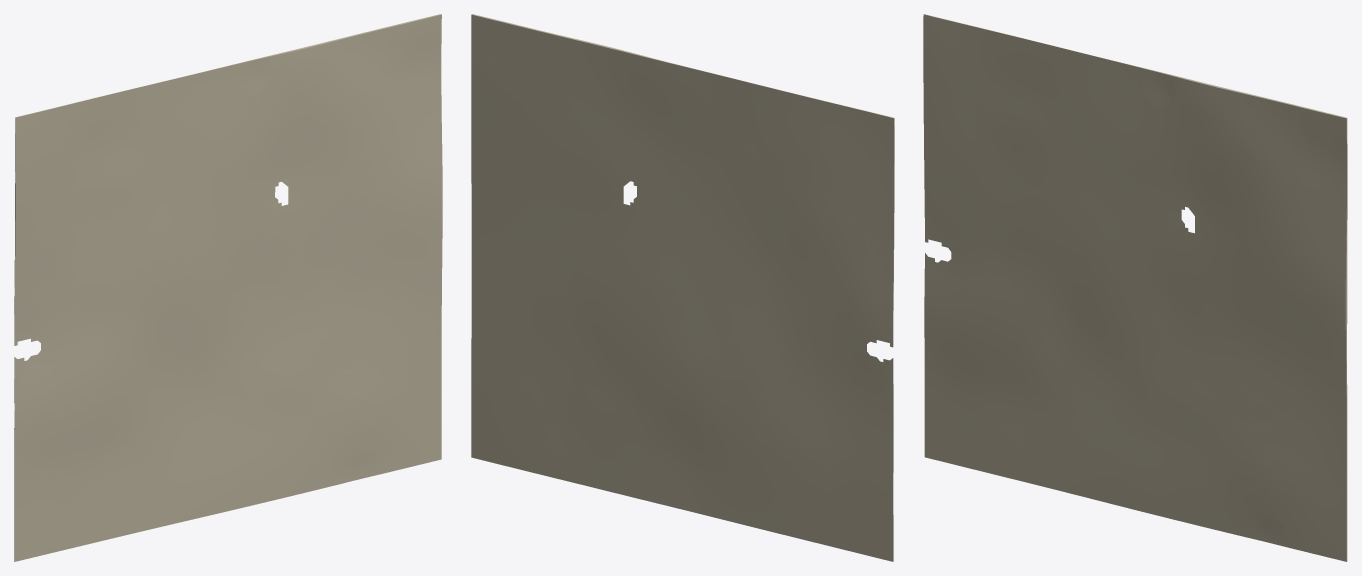
File: L02_shell.glb
The picture shows the model from 3 angles, left to right: view 1: azimuth 30°, elevation 25°; view 2: azimuth 150°, elevation 25°; view 3: azimuth 330°, elevation 25°; orthographic projection.
Parts seen in each view (by area): view 1: world; view 2: world; view 3: world.
Part boxes in pixels (x1,y1,x2,y2): world: (14, 14, 442, 561); world: (471, 14, 894, 561); world: (923, 14, 1347, 561).
Size of the model in its own units: 12800 by 12800 by 171.
